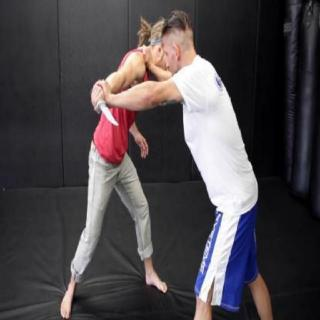knife: (88, 86, 121, 130)
